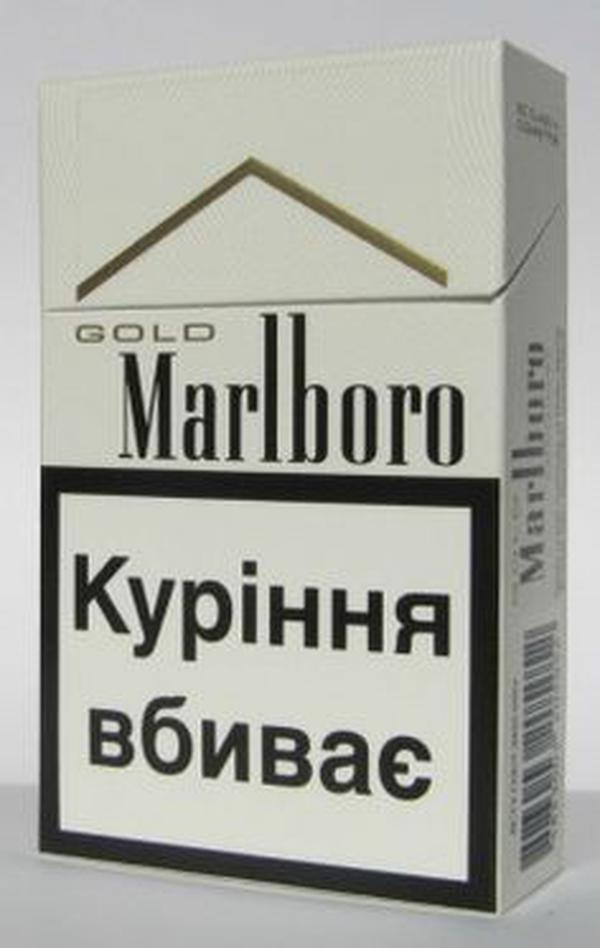marlboro_gold: (40, 75, 503, 854)
